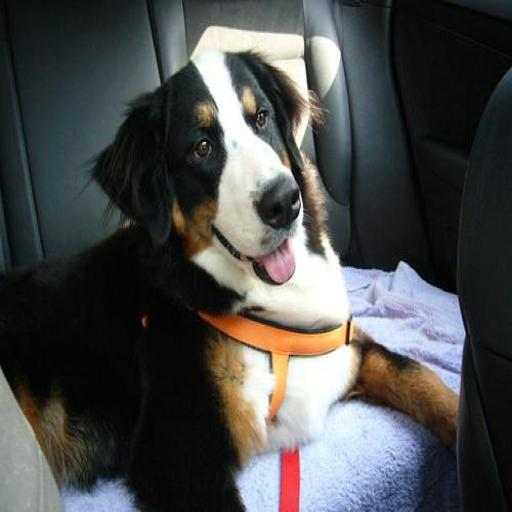dog_face: (110, 57, 328, 284)
